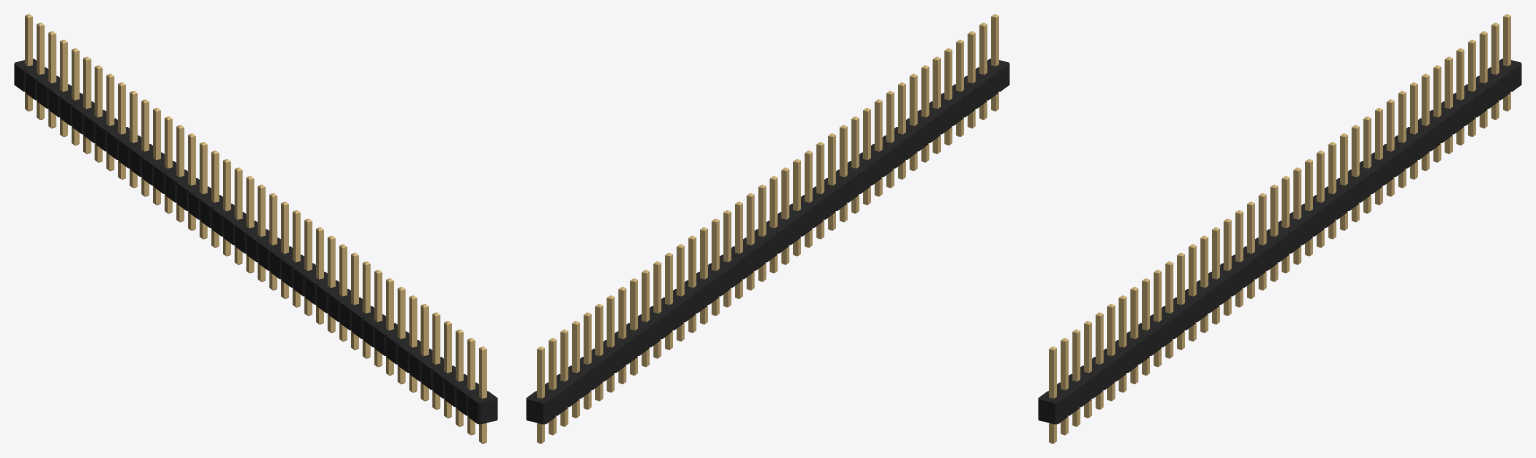
File: pinheader_1x40_p2_54mm_vertical.glb
3 renders of one model, left to right at view 1: azimuth 30°, elevation 25°; view 2: azimuth 150°, elevation 25°; view 3: azimuth 330°, elevation 25°, orthographic.
Parts seen in each view (by area): view 1: conn_header_1x40; view 2: conn_header_1x40; view 3: conn_header_1x40.
Boxes of the visible parts, x1,y1,x2,y2 form: conn_header_1x40: (14, 14, 497, 424); conn_header_1x40: (526, 14, 1009, 424); conn_header_1x40: (1038, 14, 1521, 424).
Size of the model in its own units: 0.00254 by 0.0115 by 0.1016.
